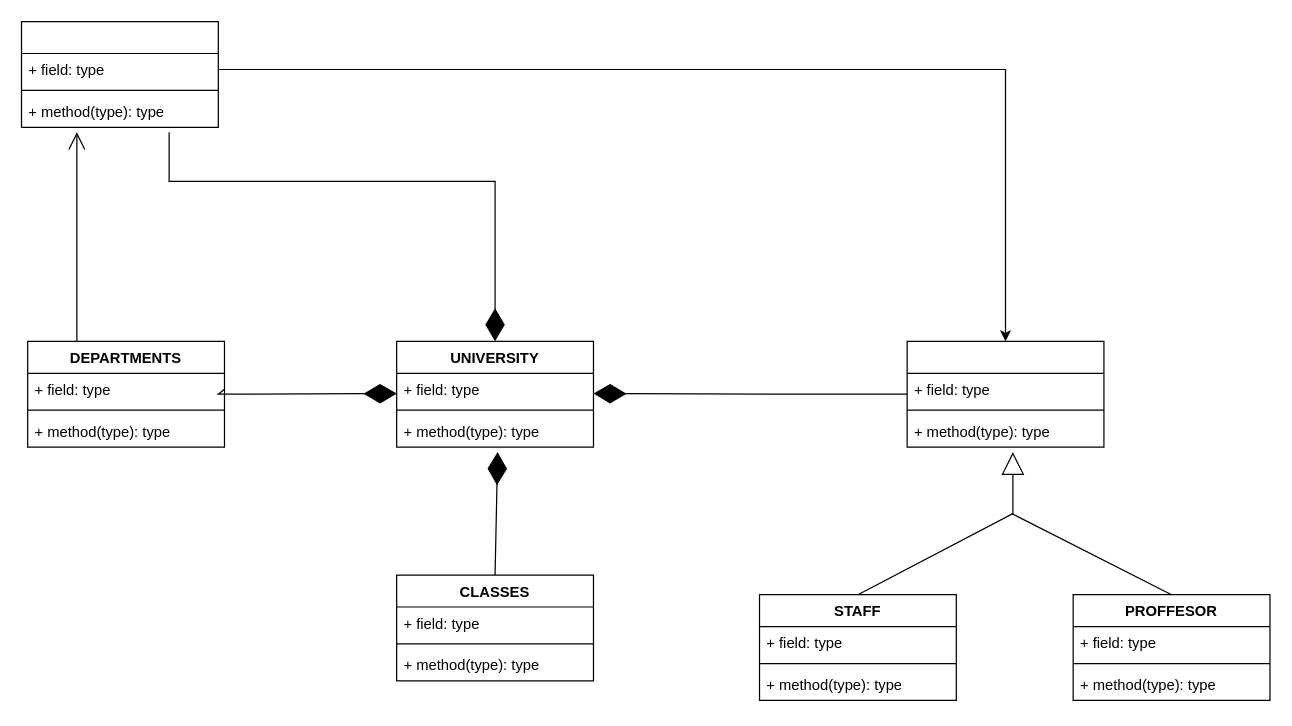
This 1292x726 diagram has some shape labels left out. The box of each missing label's shape, as (x1, y1, x2, y2) in pixels:
OFFİCER: (906, 340, 1104, 447)
OFIS: (20, 20, 218, 127)
